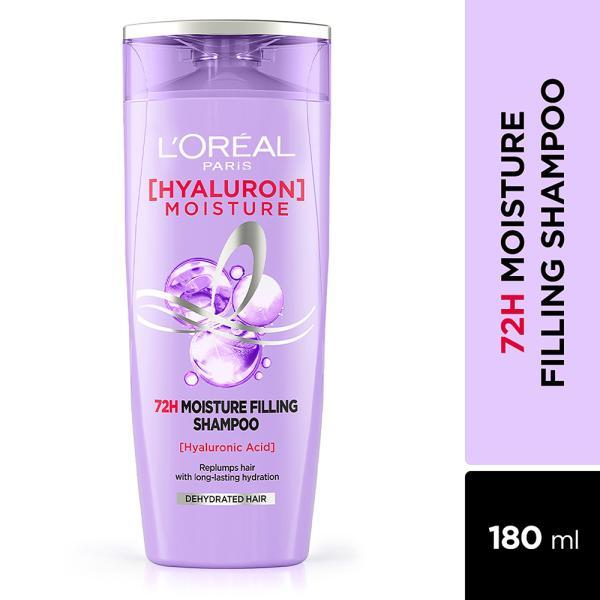Loreal: (119, 15, 331, 564)
